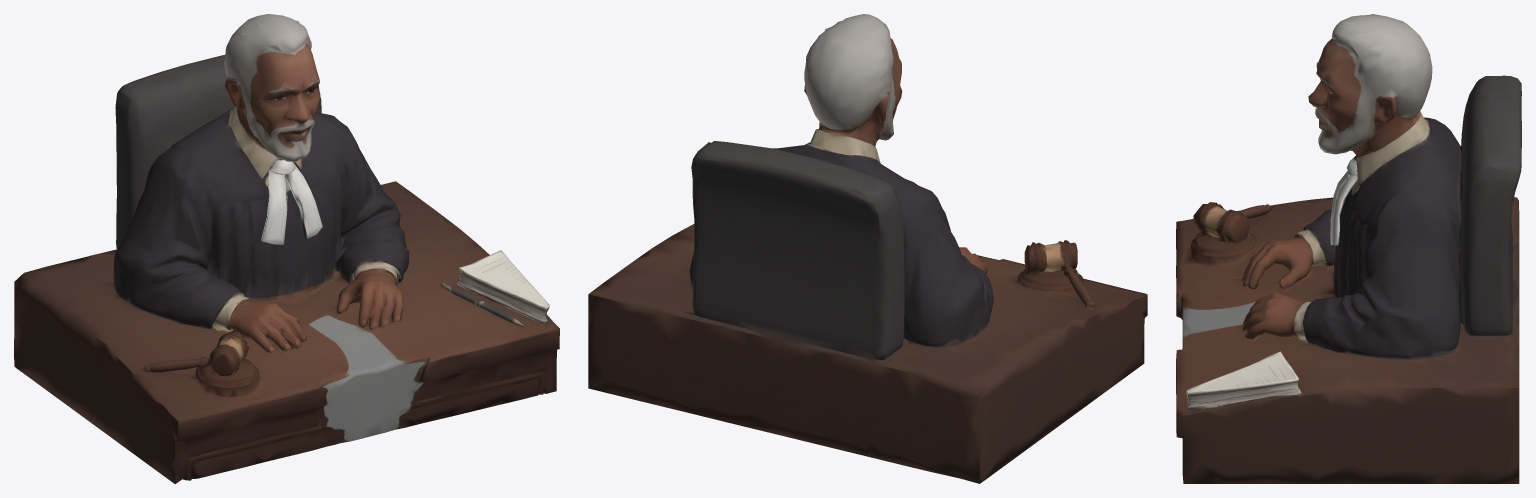
File: judge_4.glb
3 renders of one model, left to right at view 1: azimuth 30°, elevation 25°; view 2: azimuth 150°, elevation 25°; view 3: azimuth 270°, elevation 25°, orthographic. The views are drawn at different scales.
Visible parts, largest first — view 1: tripo_node_6cd9d69d-034a-41ef-b247-c87b28bde268; view 2: tripo_node_6cd9d69d-034a-41ef-b247-c87b28bde268; view 3: tripo_node_6cd9d69d-034a-41ef-b247-c87b28bde268.
Boxes of the visible parts, x1,y1,x2,y2 form: tripo_node_6cd9d69d-034a-41ef-b247-c87b28bde268: (14,14,559,483); tripo_node_6cd9d69d-034a-41ef-b247-c87b28bde268: (588,14,1147,483); tripo_node_6cd9d69d-034a-41ef-b247-c87b28bde268: (1176,14,1521,483).
Size of the model in its own units: 1 by 0.881 by 0.7497.
1 material, 1 textured.
